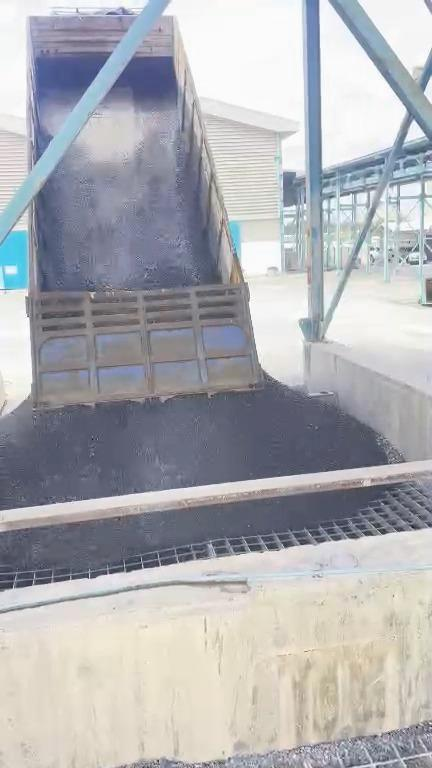gravel: (1, 379, 391, 510), (44, 86, 215, 290), (1, 490, 376, 572), (122, 722, 432, 767)
